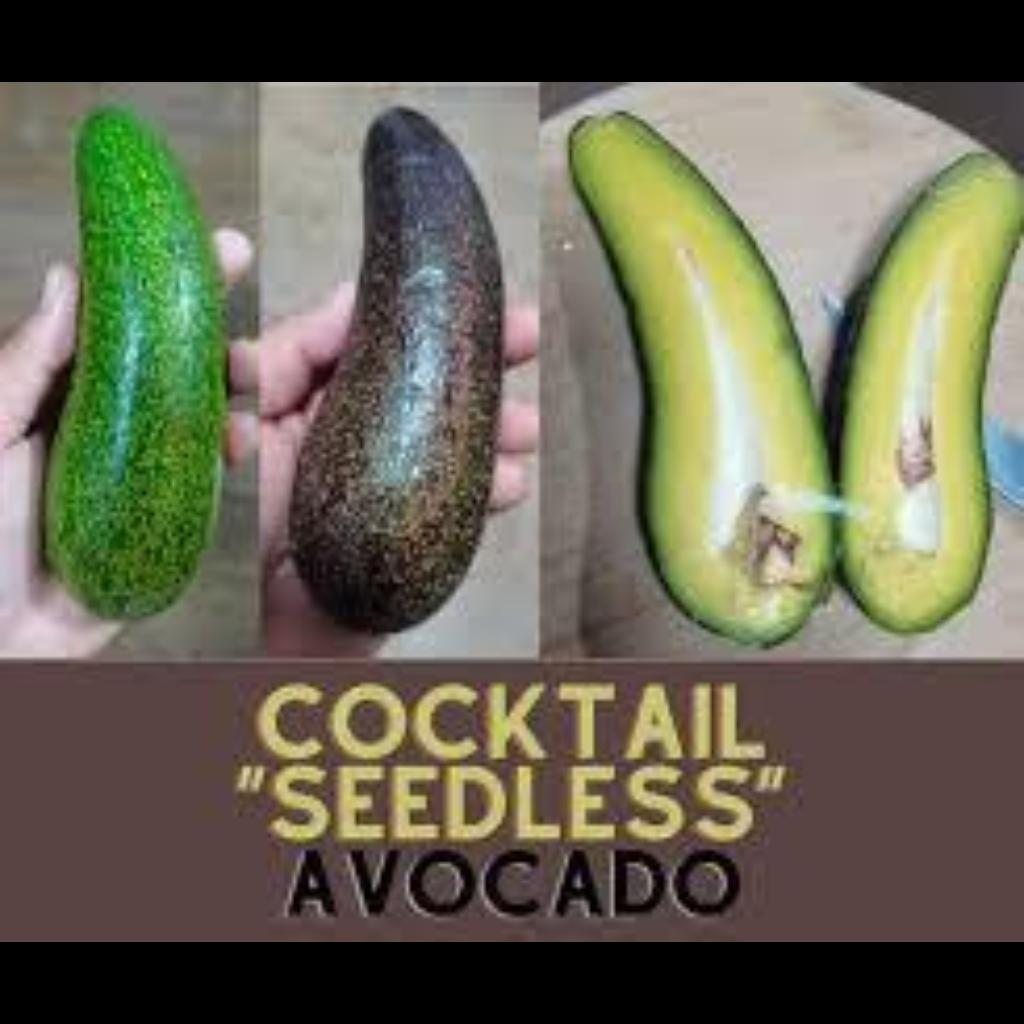cercospora: (60, 274, 231, 629)
